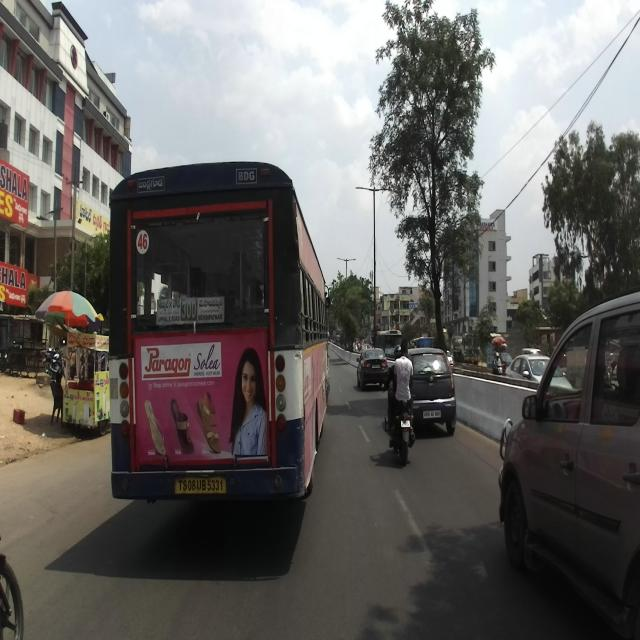bus: (106, 160, 333, 503)
car: (499, 291, 640, 639)
motorcycle: (384, 381, 415, 465)
